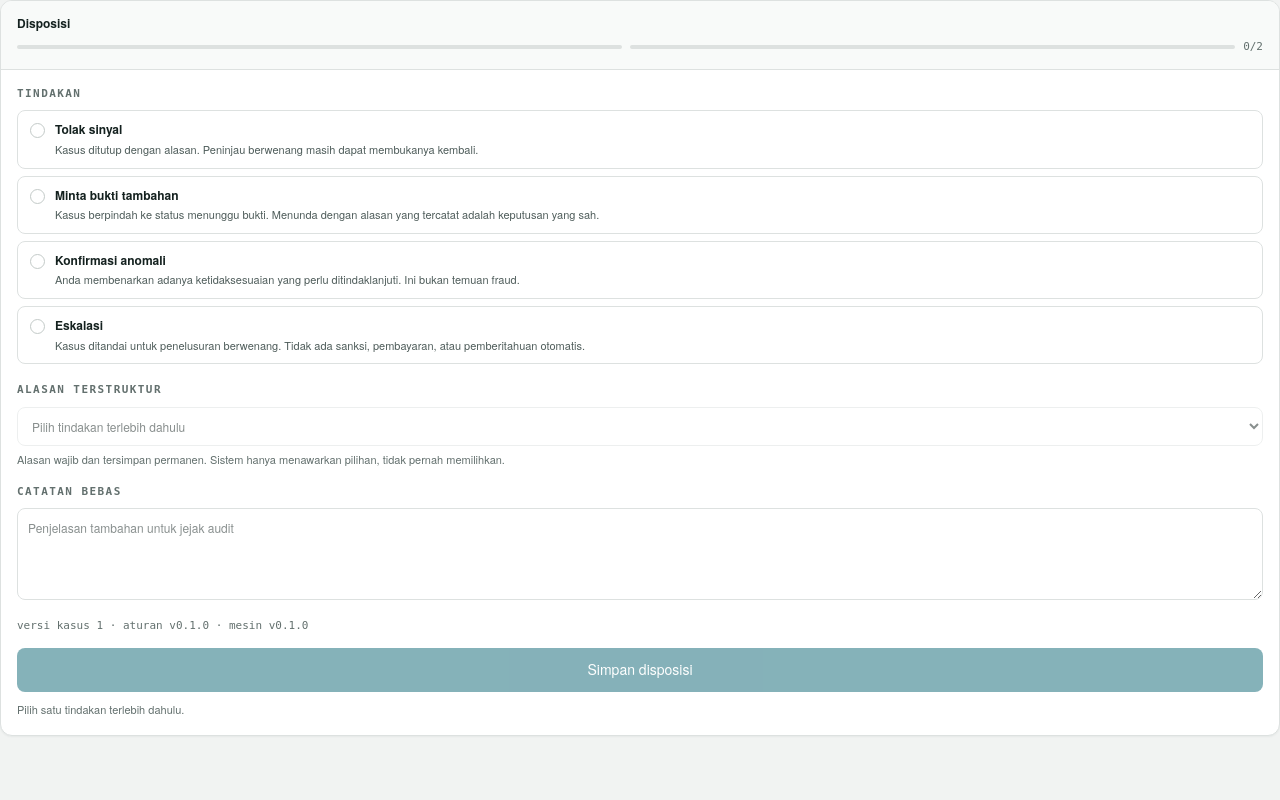
Test: the system suggests and never chooses › no reason is pre-selected once an action is chosen
The image size is (1280, 800).
Click the radio button labelled "Konfirmasi anomali" at (38, 261), box [30,254,45,269]
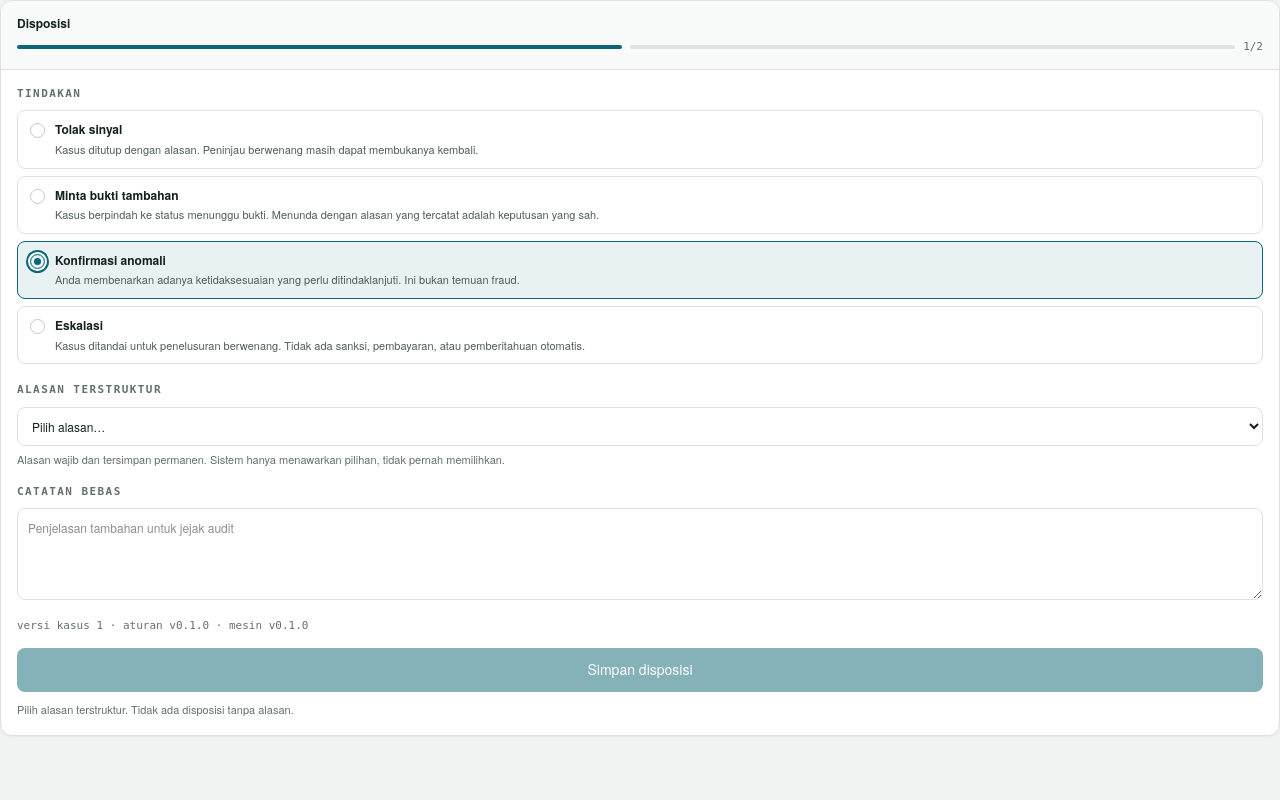
Check: the dropdown labelled "ALASAN TERSTRUKTUR" shows "Pilih alasan…", box [17,407,1263,446]
